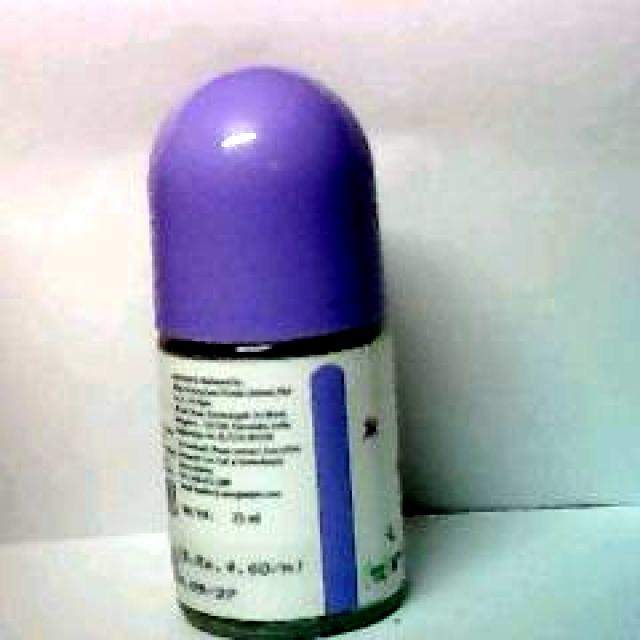yardley_rollon: (147, 67, 408, 637)
